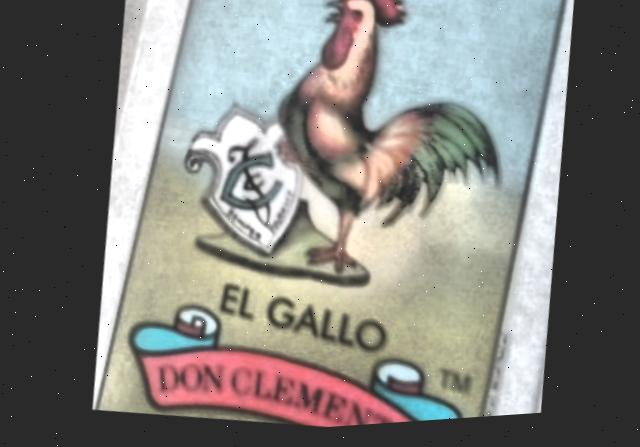El Gallo: (92, 0, 562, 431)
